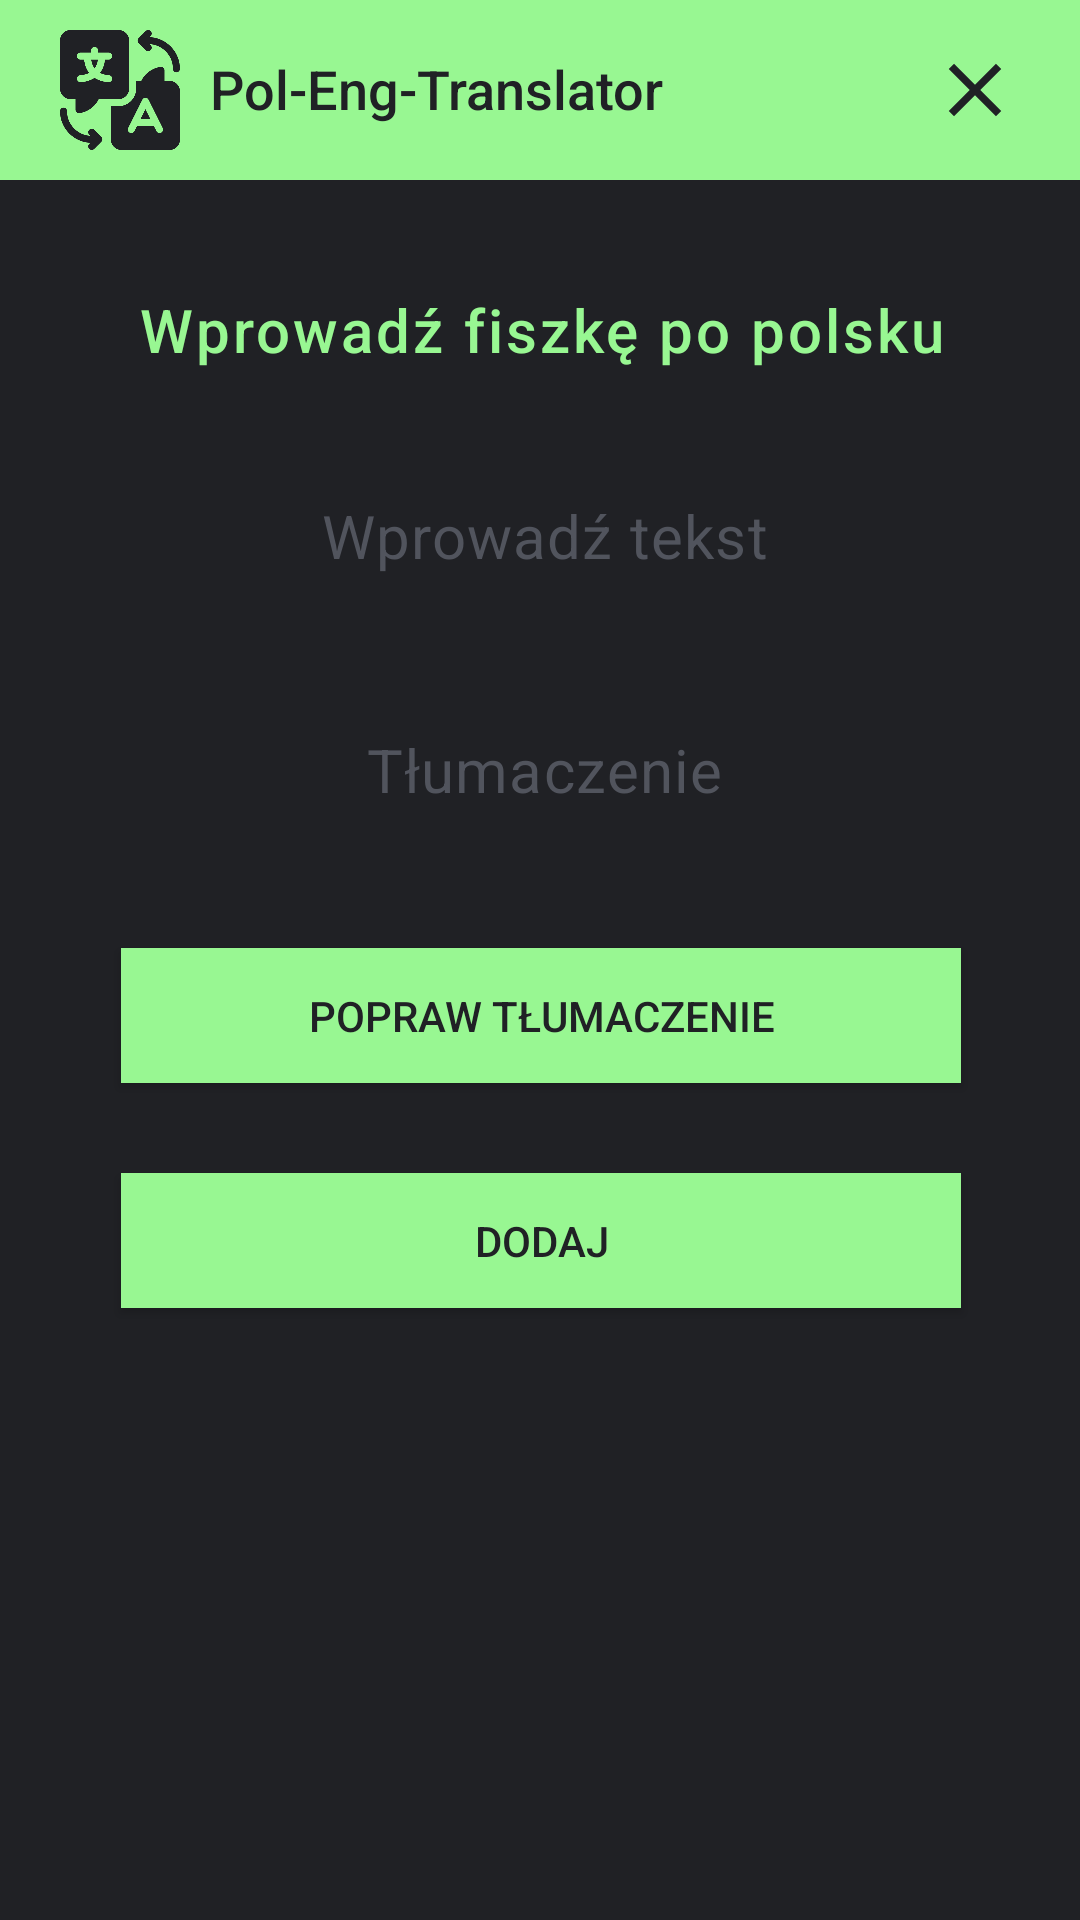

Where to tap for icons on this 1080px x 1920px app screen, as point (x, y):
clear: point (975, 90)
translation: point (120, 90)
